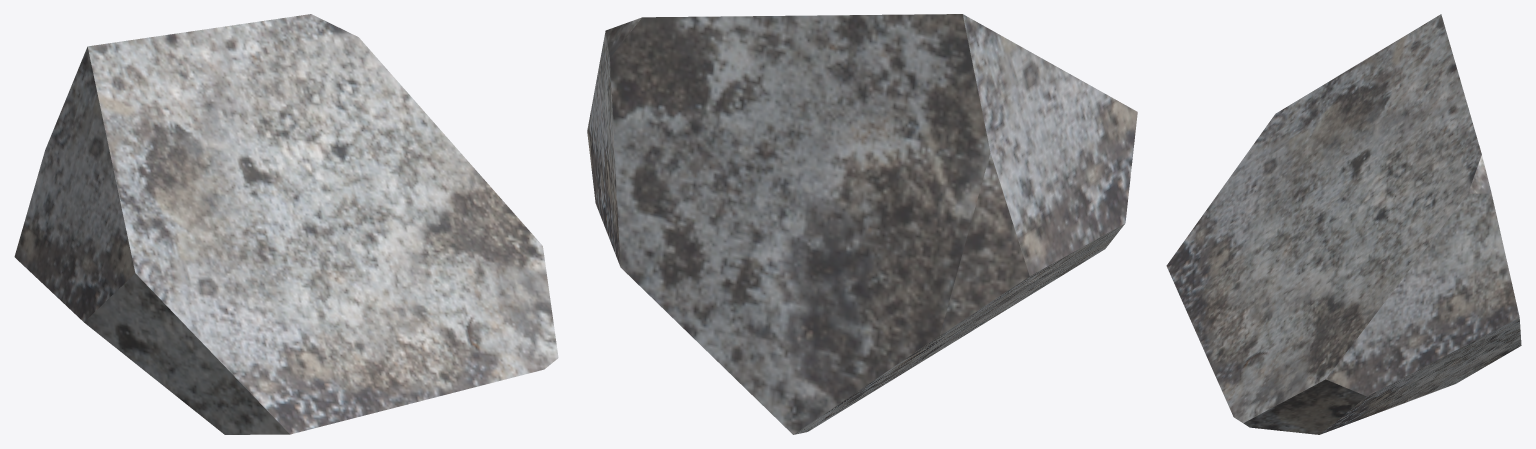
Rendered from Asteroid_Large_001_02_012_03_020.fbx.
3 renders of one model, left to right at view 1: azimuth 30°, elevation 25°; view 2: azimuth 150°, elevation 25°; view 3: azimuth 270°, elevation 25°, orthographic. The views are drawn at different scales.
Parts seen in each view (by area): view 1: Asteroid_Large_001_02_012_03_020; view 2: Asteroid_Large_001_02_012_03_020; view 3: Asteroid_Large_001_02_012_03_020.
Part boxes in pixels (x1,y1,x2,y2): Asteroid_Large_001_02_012_03_020: (14, 14, 558, 434); Asteroid_Large_001_02_012_03_020: (587, 14, 1137, 434); Asteroid_Large_001_02_012_03_020: (1166, 14, 1521, 434).
Bounding box in the file's own units: 10.17 × 8.03 × 8.09.
